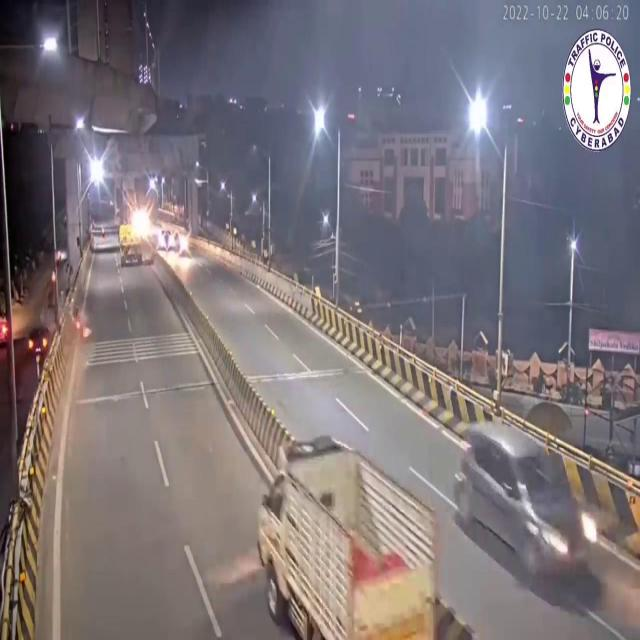accident: (57, 291, 95, 349)
